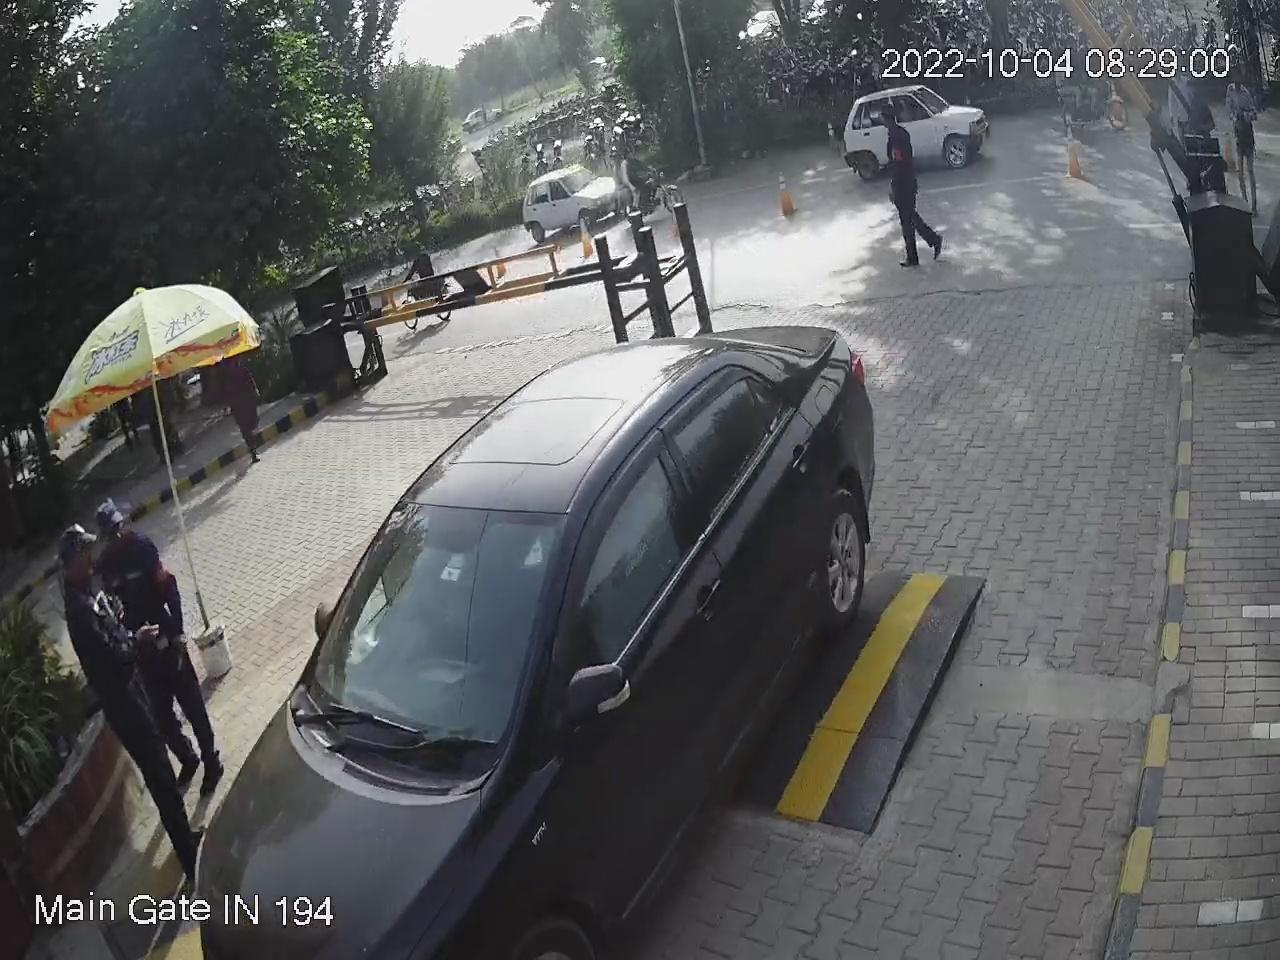windshield: (295, 505, 560, 767)
